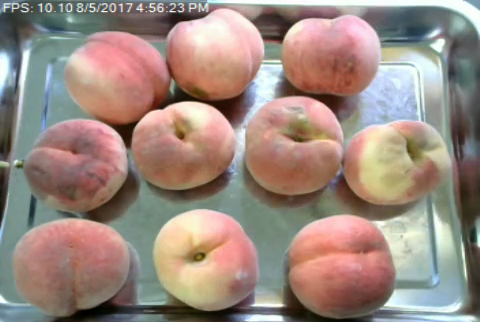Peach: (16, 216, 131, 314), (288, 214, 395, 319), (153, 209, 257, 310), (66, 29, 169, 125), (24, 118, 129, 212), (165, 7, 265, 102), (130, 99, 234, 190), (245, 95, 341, 193), (344, 120, 450, 206), (280, 14, 380, 98)
